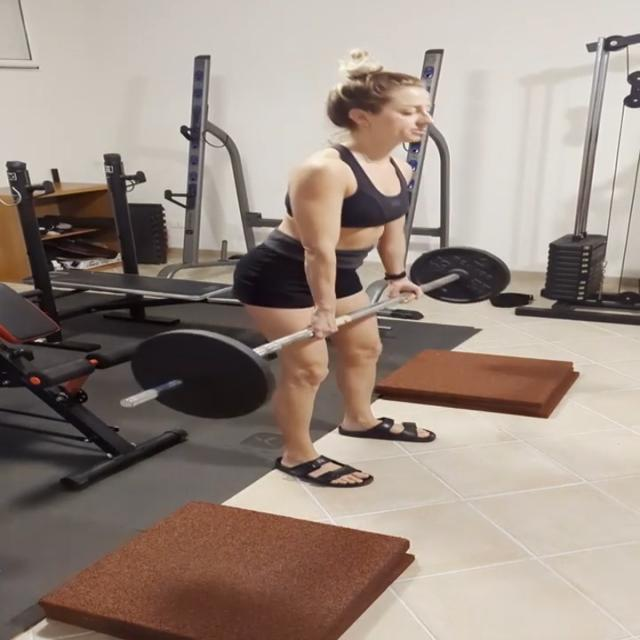barbell: (117, 328, 283, 425)
